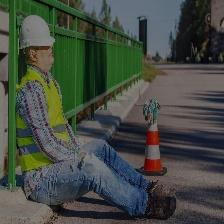Person: (13, 14, 181, 221)
helmet: (17, 13, 57, 55)
vest: (18, 68, 69, 173)
